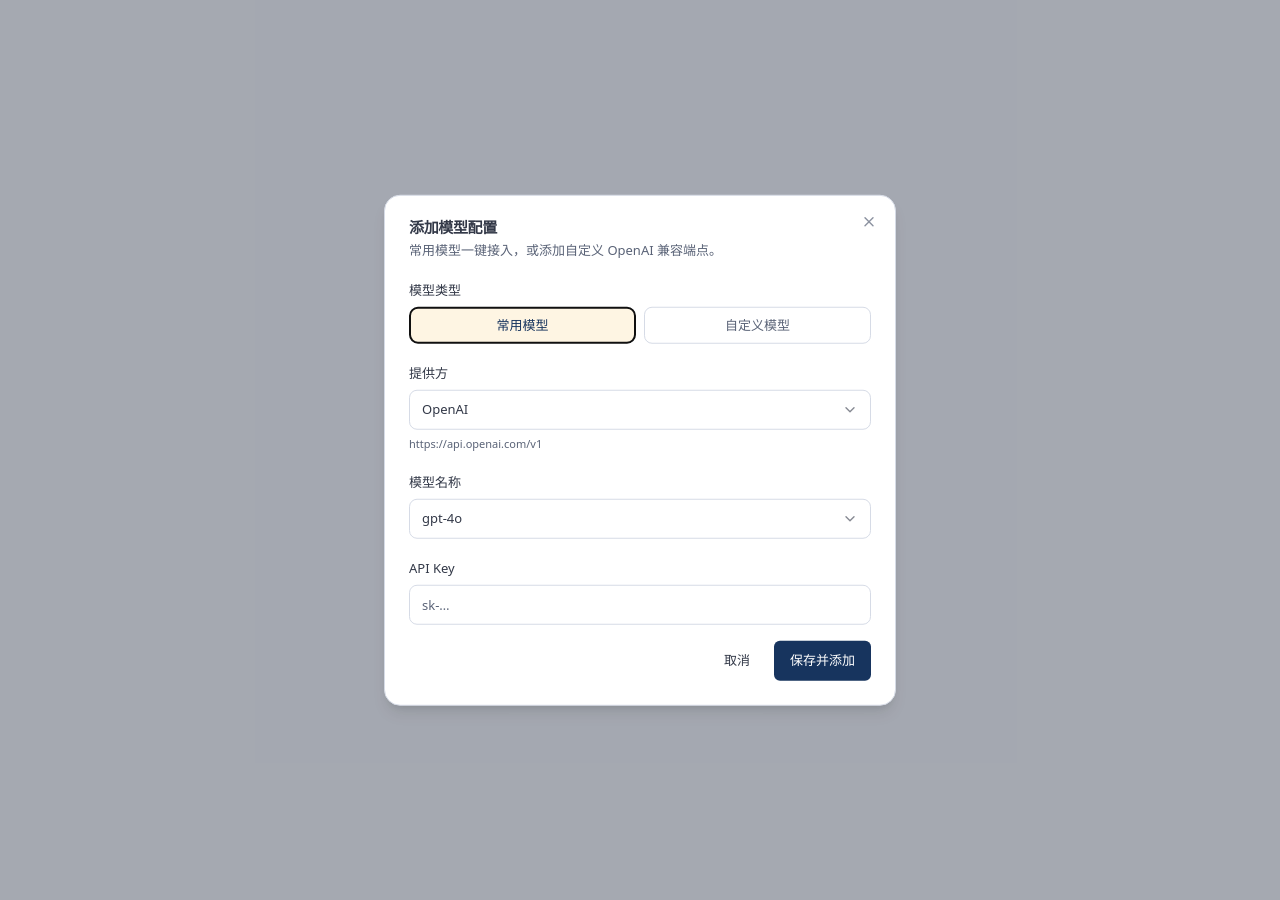
it: AddModelConfigDialog · B-07 › 默认常用模型：提供方 + 预设模型；缺 API Key 时拦截提交
Expected: the dropdown with test id "add-model-preset" is shown, [409,390,871,430]
Expected: the dropdown with test id "add-model-common-name" reads "gpt-4o", [409,498,871,538]
Step 1. Click the button with test id "add-model-submit" → coordinates (822, 660), box [774,640,871,680]
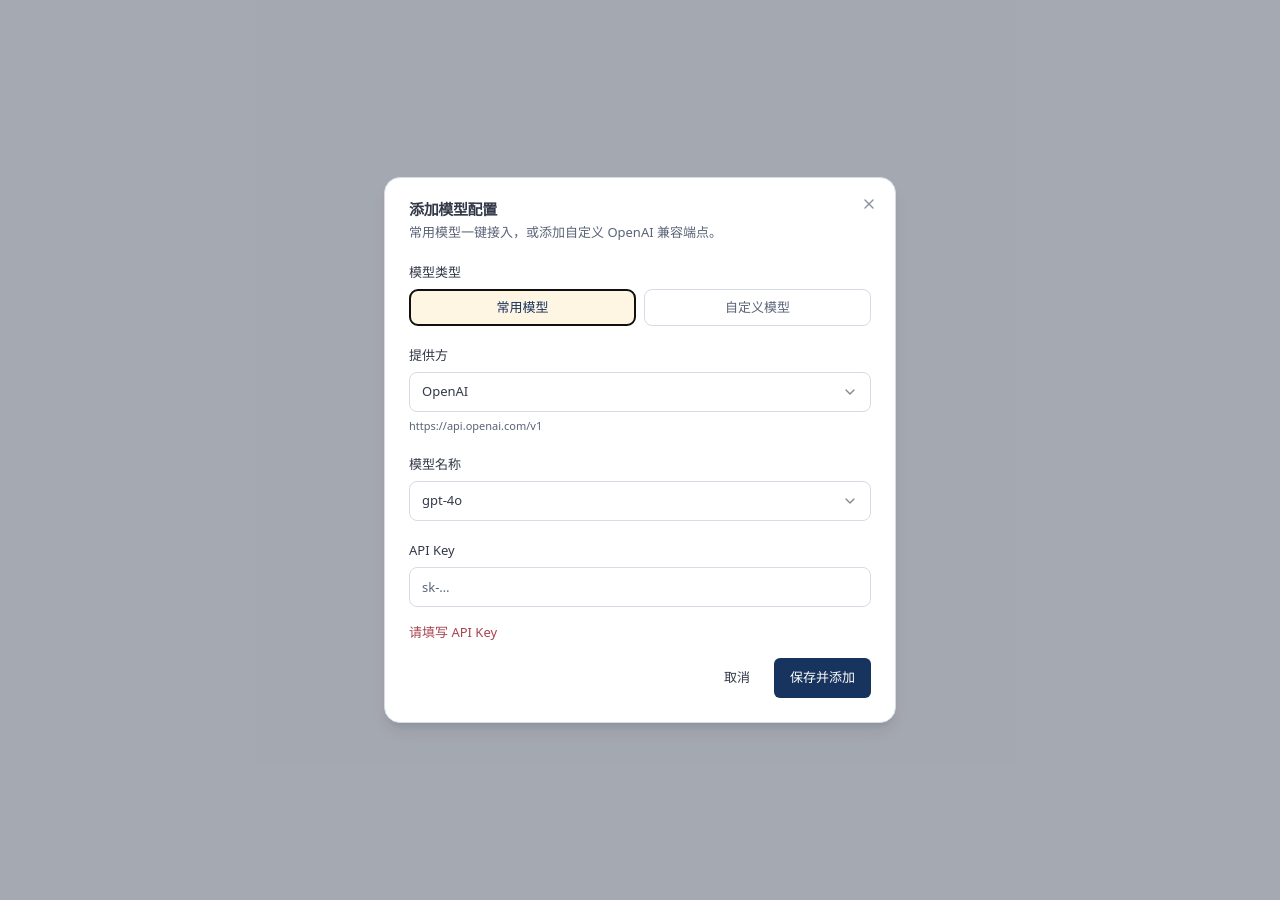
Now the message with test id "add-model-error" reads "请填写 API Key", box [409,622,497,640]
